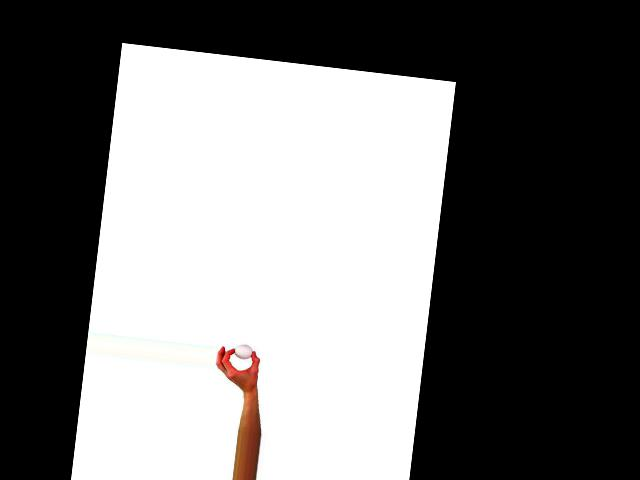egg: (233, 343, 253, 360)
